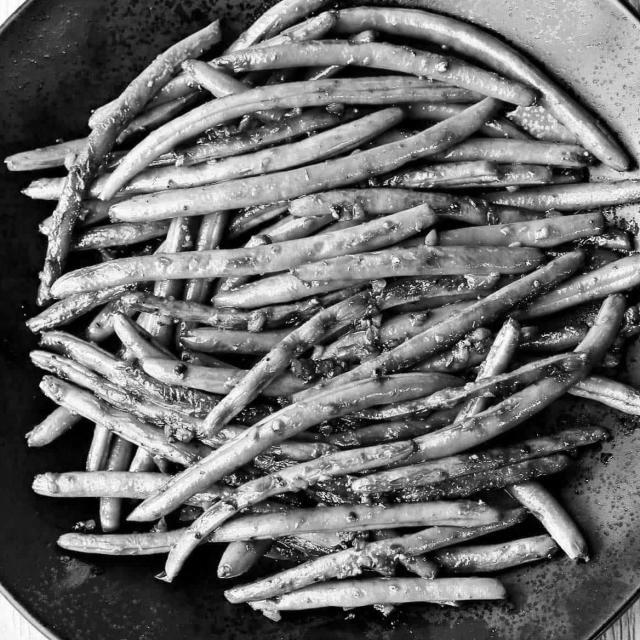Beans: (2, 0, 639, 627)
